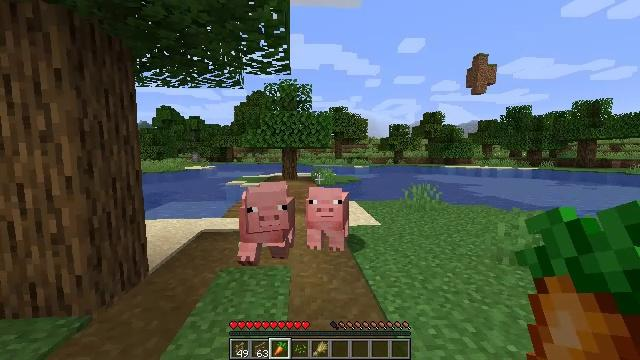pig: (236, 182, 295, 266), (305, 186, 351, 252)
